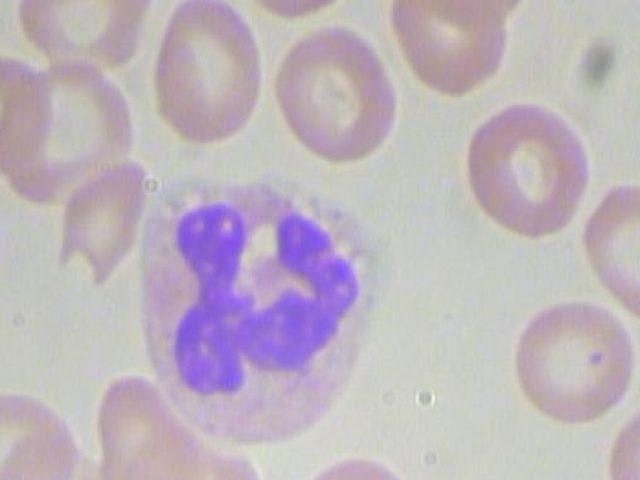RBC: (263, 17, 416, 169), (461, 98, 598, 239), (505, 291, 640, 432), (143, 0, 269, 147), (384, 0, 508, 102), (7, 0, 154, 83), (572, 178, 640, 320), (0, 383, 81, 480), (278, 447, 428, 480), (603, 391, 640, 480), (0, 0, 4, 58)
WBC: (124, 172, 391, 454)
